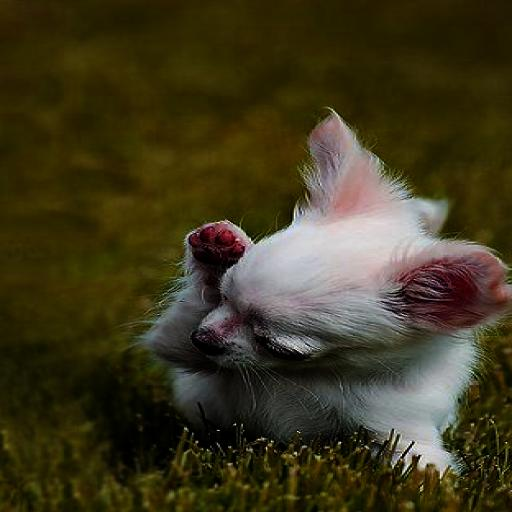dog_face: (179, 132, 512, 366)
